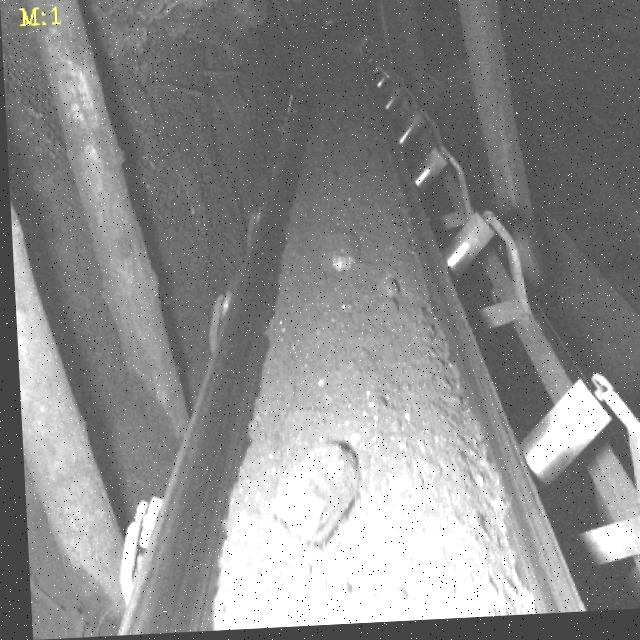large_sized_coal: (262, 442, 355, 549), (314, 234, 361, 277)
